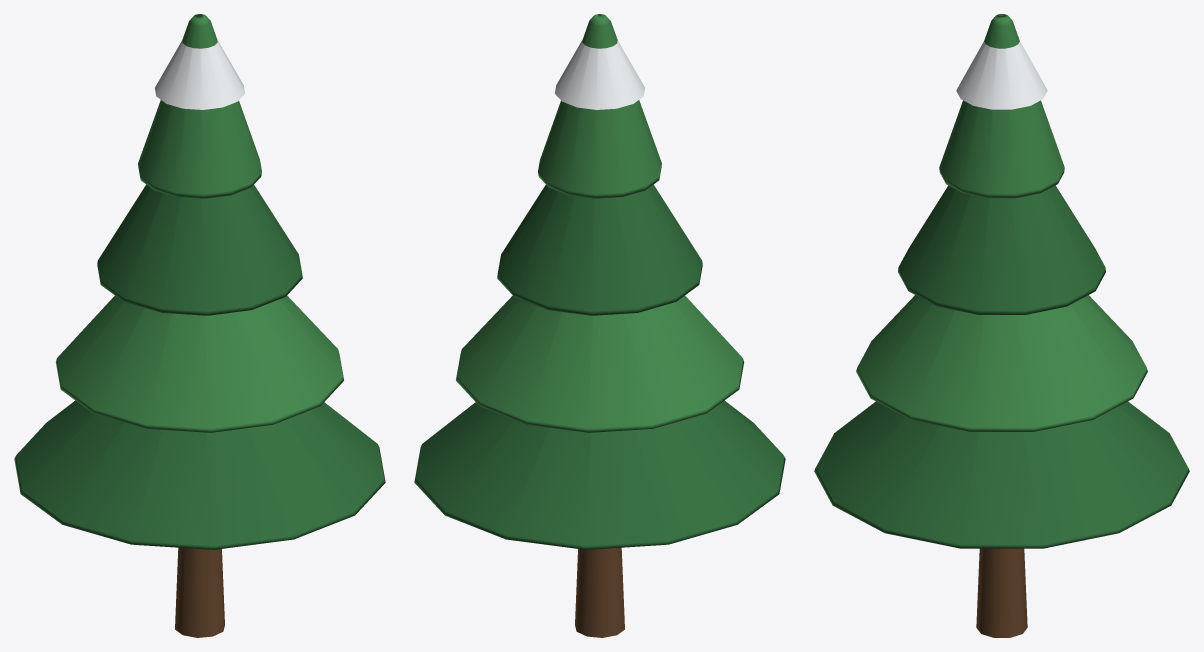
Rendered from prop_tree_conifer_1.glb.
The picture shows the model from 3 angles, left to right: view 1: azimuth 30°, elevation 25°; view 2: azimuth 150°, elevation 25°; view 3: azimuth 270°, elevation 25°; orthographic projection.
Visible parts, largest first — view 1: Tier0, Tier1, Tier2, Tier3, SnowCap, Trunk; view 2: Tier0, Tier1, Tier2, Tier3, SnowCap, Trunk; view 3: Tier0, Tier1, Tier2, Tier3, SnowCap, Trunk.
Boxes of the visible parts, box(x1,y1,x2,y2) form: Tier0: box(14, 400, 385, 549); Tier1: box(55, 295, 343, 432); Tier2: box(97, 184, 302, 315); Tier3: box(138, 14, 261, 198); SnowCap: box(155, 39, 244, 109); Trunk: box(175, 547, 224, 637); Tier0: box(414, 400, 785, 549); Tier1: box(456, 295, 744, 432); Tier2: box(497, 184, 702, 315); Tier3: box(538, 14, 661, 198); SnowCap: box(555, 39, 644, 109); Trunk: box(575, 547, 624, 637); Tier0: box(814, 401, 1189, 548); Tier1: box(856, 295, 1147, 431); Tier2: box(898, 185, 1105, 314); Tier3: box(939, 14, 1064, 198); SnowCap: box(956, 41, 1047, 109); Trunk: box(976, 548, 1027, 637).
Bounding box in the file's own units: 3.43 × 6.33 × 3.52.
